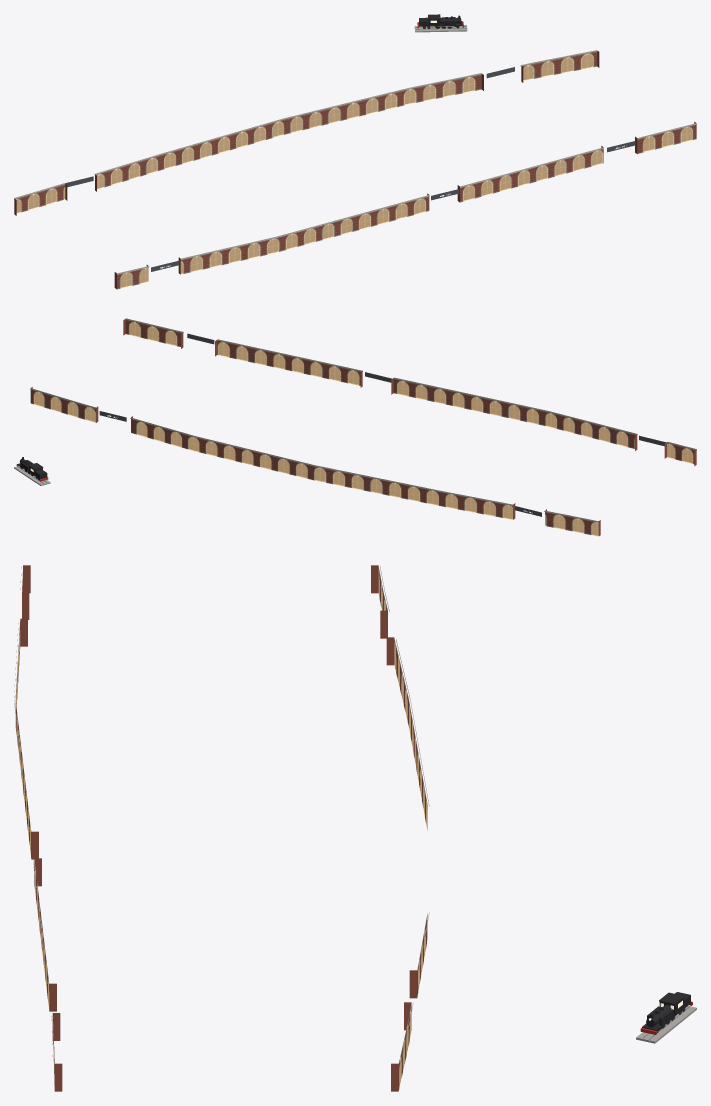
File: shimbashi_station.glb
3 renders of one model, top to bottom at view 1: azimuth 30°, elevation 25°; view 2: azimuth 150°, elevation 25°; view 3: azimuth 270°, elevation 25°, orthographic. The views are drawn at different scales.
Parts seen in each view (by area): view 1: SH_Station; view 2: SH_Station; view 3: SH_Station.
Part boxes in pixels (x1,y1,x2,y2): SH_Station: (14,14,696,289); SH_Station: (14,318,696,536); SH_Station: (14,565,696,1091).
Bounding box in the file's own units: 187 × 4.9 × 108.
Materials: 12 (1 with a texture image).
